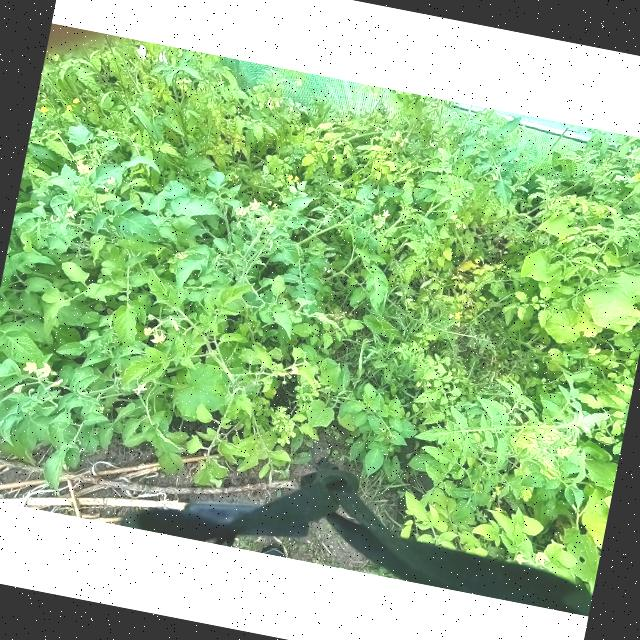Flowers: (36, 362, 52, 380), (534, 552, 552, 568), (149, 330, 166, 346), (132, 380, 148, 396), (21, 360, 36, 375), (169, 318, 182, 331), (66, 206, 78, 220), (248, 199, 260, 212), (288, 365, 300, 377), (178, 250, 190, 262), (390, 130, 402, 142), (514, 555, 526, 566), (78, 162, 89, 174), (53, 377, 64, 387), (456, 222, 466, 231), (143, 328, 152, 337), (239, 208, 247, 218), (13, 386, 23, 394), (288, 176, 299, 183), (382, 209, 390, 218), (454, 312, 462, 321), (449, 214, 459, 221), (72, 98, 80, 105), (40, 106, 48, 113), (454, 321, 461, 328), (66, 104, 72, 112), (448, 313, 454, 319), (400, 142, 404, 150), (372, 215, 378, 220)
